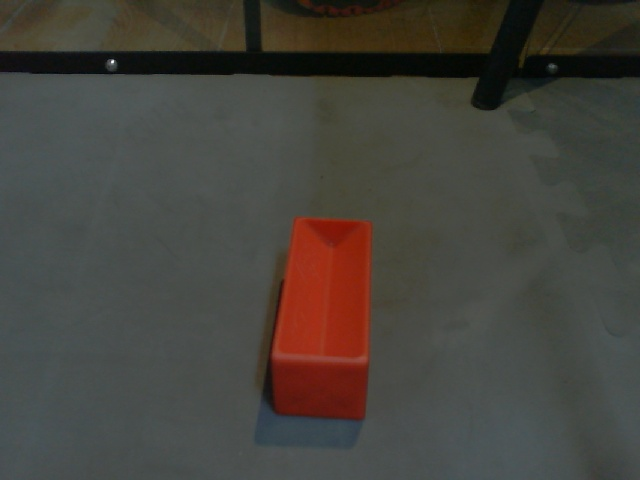RedSample: (268, 210, 374, 422)
